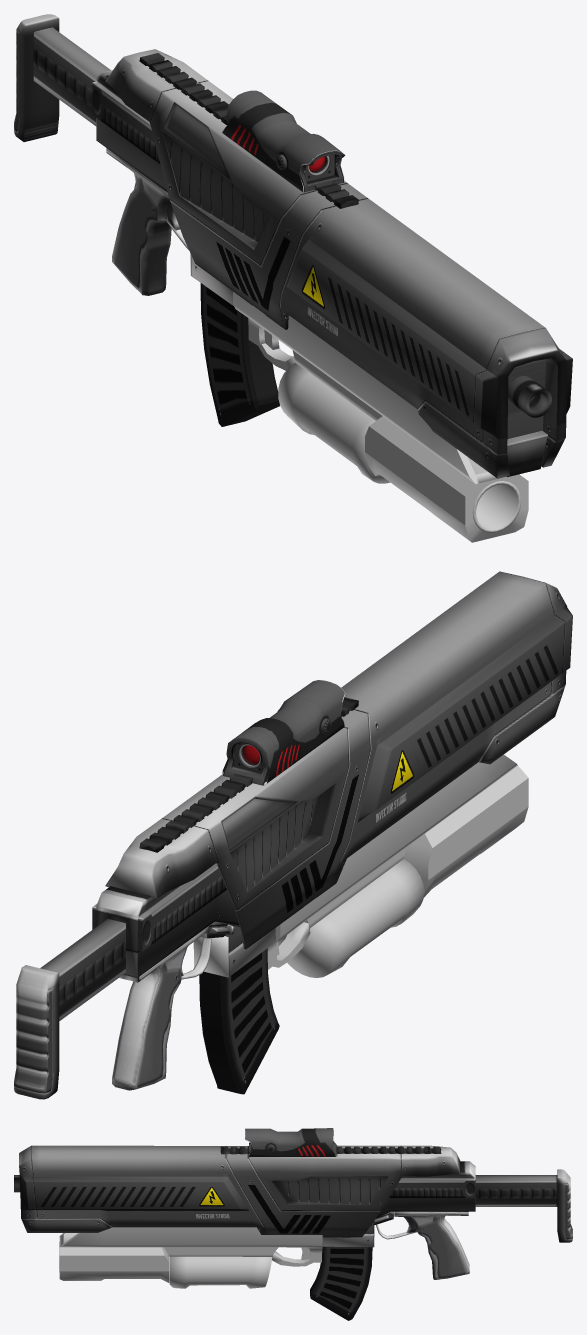
File: vWeapon2.0.fbx
The picture shows the model from 3 angles, top to bottom: view 1: azimuth 30°, elevation 25°; view 2: azimuth 150°, elevation 25°; view 3: azimuth 270°, elevation 25°; orthographic projection. The views are drawn at different scales.
Parts seen in each view (by area): view 1: vWeapon_b_body, vWeapon_b_grenade-launcher, vWeapon_b_support, vWeapon_b_clip.001, vWeapon_b_scope, vWeapon_b_body.005, vWeapon_b_body.006; view 2: vWeapon_b_body, vWeapon_b_grenade-launcher, vWeapon_b_support, vWeapon_b_clip.001, vWeapon_b_body.005, vWeapon_b_scope, vWeapon_b_body.006, scope_lens_1; view 3: vWeapon_b_body, vWeapon_b_grenade-launcher, vWeapon_b_support, vWeapon_b_clip.001, vWeapon_b_body.005, vWeapon_b_scope.
Boxes of the visible parts, x1,y1,x2,y2 form: vWeapon_b_body: [92, 49, 572, 478]; vWeapon_b_grenade-launcher: [233, 291, 528, 542]; vWeapon_b_support: [14, 14, 110, 141]; vWeapon_b_clip.001: [200, 283, 279, 426]; vWeapon_b_scope: [222, 90, 345, 192]; vWeapon_b_body.005: [106, 148, 188, 295]; vWeapon_b_body.006: [167, 105, 225, 169]; vWeapon_b_body: [92, 571, 572, 977]; vWeapon_b_grenade-launcher: [267, 754, 528, 977]; vWeapon_b_support: [14, 919, 125, 1099]; vWeapon_b_clip.001: [199, 948, 279, 1094]; vWeapon_b_body.005: [112, 921, 234, 1090]; vWeapon_b_scope: [221, 680, 345, 785]; vWeapon_b_body.006: [222, 798, 288, 845]; scope_lens_1: [234, 743, 262, 772]; vWeapon_b_body: [14, 1145, 475, 1247]; vWeapon_b_grenade-launcher: [59, 1227, 322, 1288]; vWeapon_b_support: [475, 1169, 572, 1242]; vWeapon_b_clip.001: [310, 1246, 372, 1320]; vWeapon_b_body.005: [371, 1211, 469, 1279]; vWeapon_b_scope: [245, 1128, 337, 1156].
Size of the model in its own units: 6.48 by 23.84 by 64.31.
